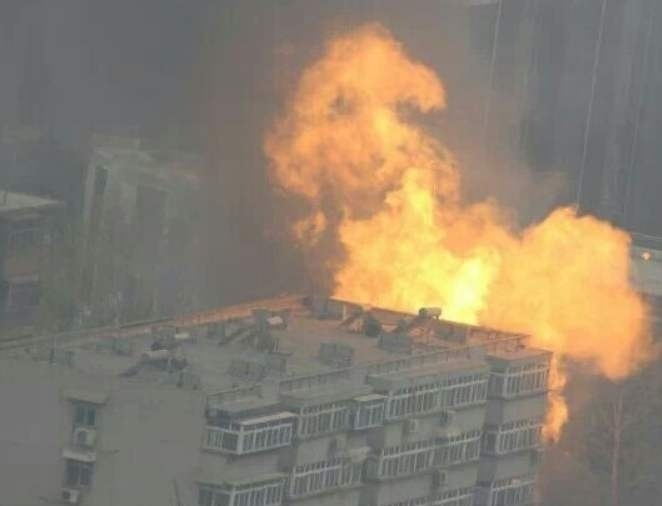fire: (263, 25, 649, 339)
